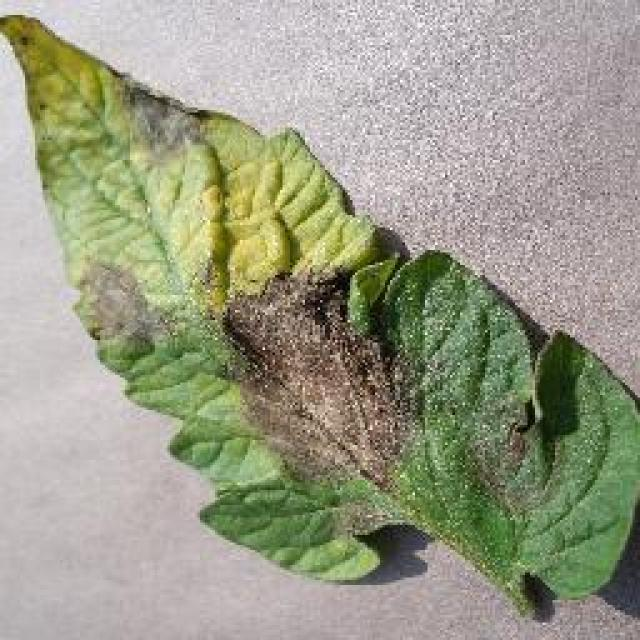Tomato late blight leaf: (1, 18, 639, 602)
